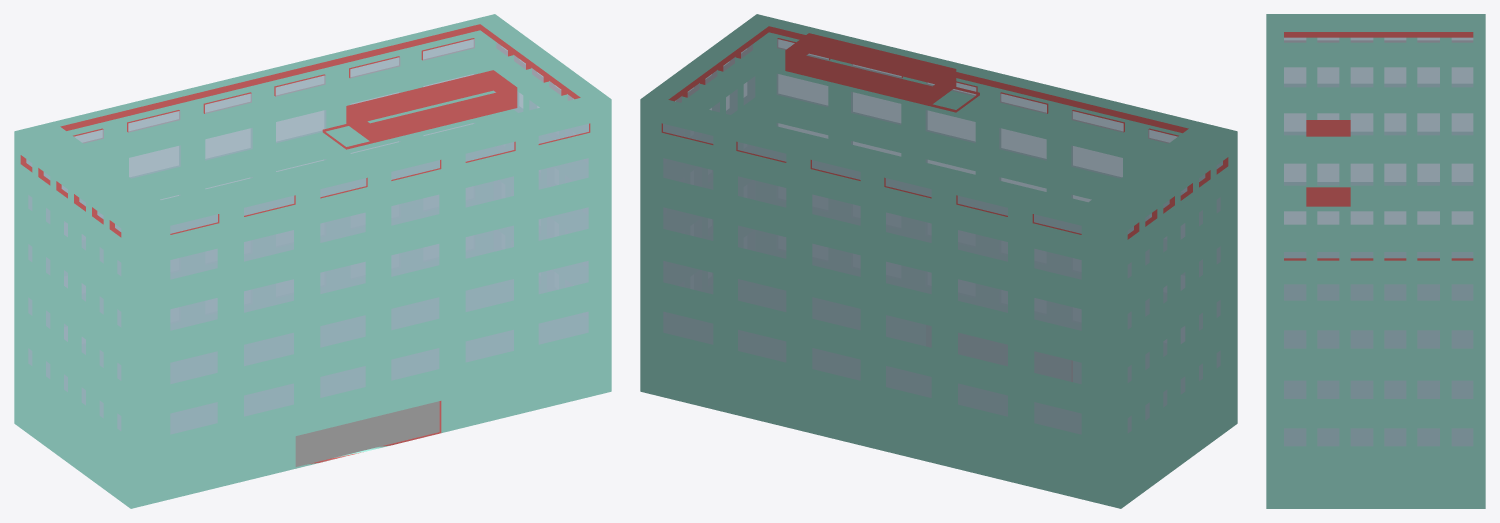
3 renders of one model, left to right at view 1: azimuth 30°, elevation 25°; view 2: azimuth 150°, elevation 25°; view 3: azimuth 270°, elevation 25°, orthographic. The views are drawn at different scales.
Visible parts, largest first — view 1: Cube_2.001; view 2: Cube_2.001; view 3: Cube_2.001.
Part boxes in pixels (left/top/right/bottom): Cube_2.001: left=14, top=14, right=611, bottom=508; Cube_2.001: left=640, top=14, right=1237, bottom=508; Cube_2.001: left=1266, top=14, right=1485, bottom=508.
Size of the model in its own units: 131 by 79.89 by 55.15.
